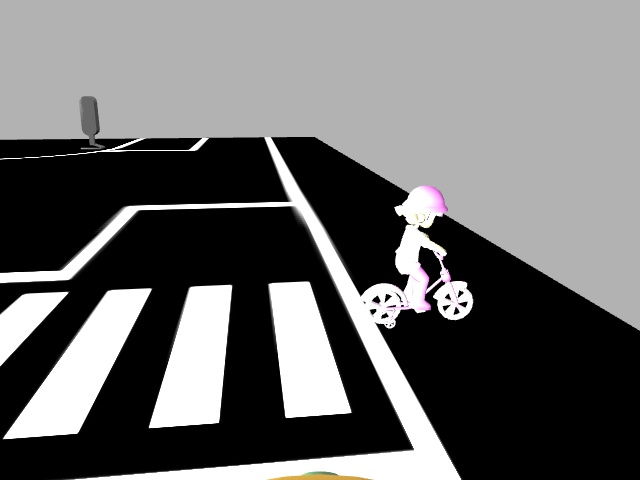Pedestrian: (343, 175, 493, 333)
